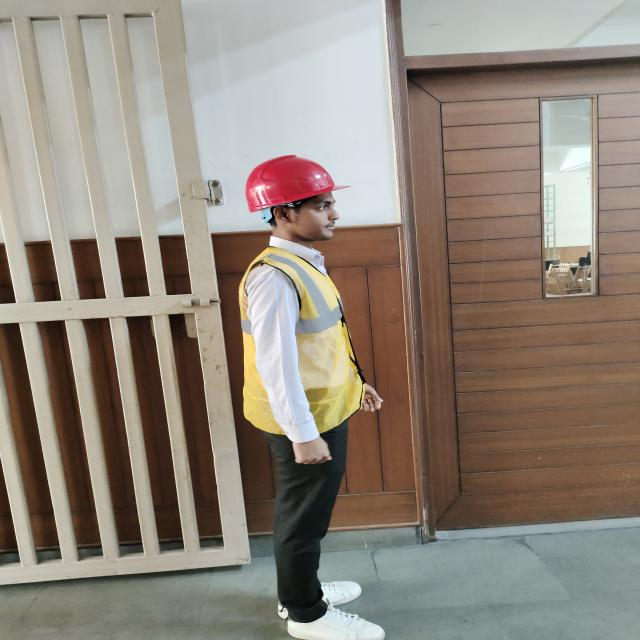safe: (245, 157, 385, 640)
